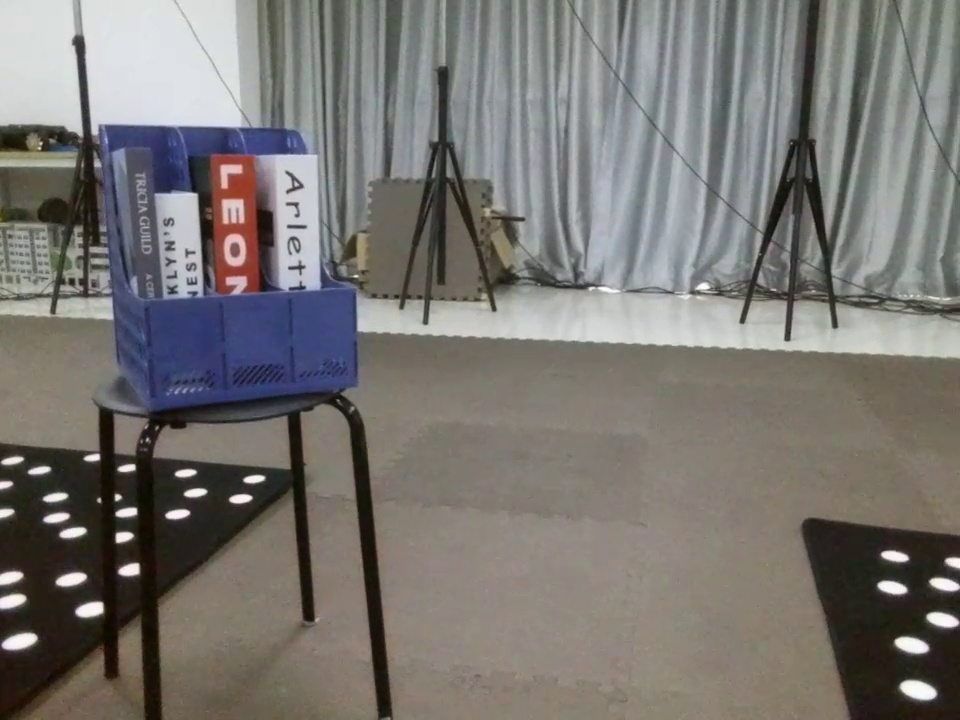files: (78, 111, 370, 413)
